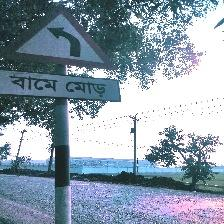Left-Turn: (1, 5, 121, 103)
